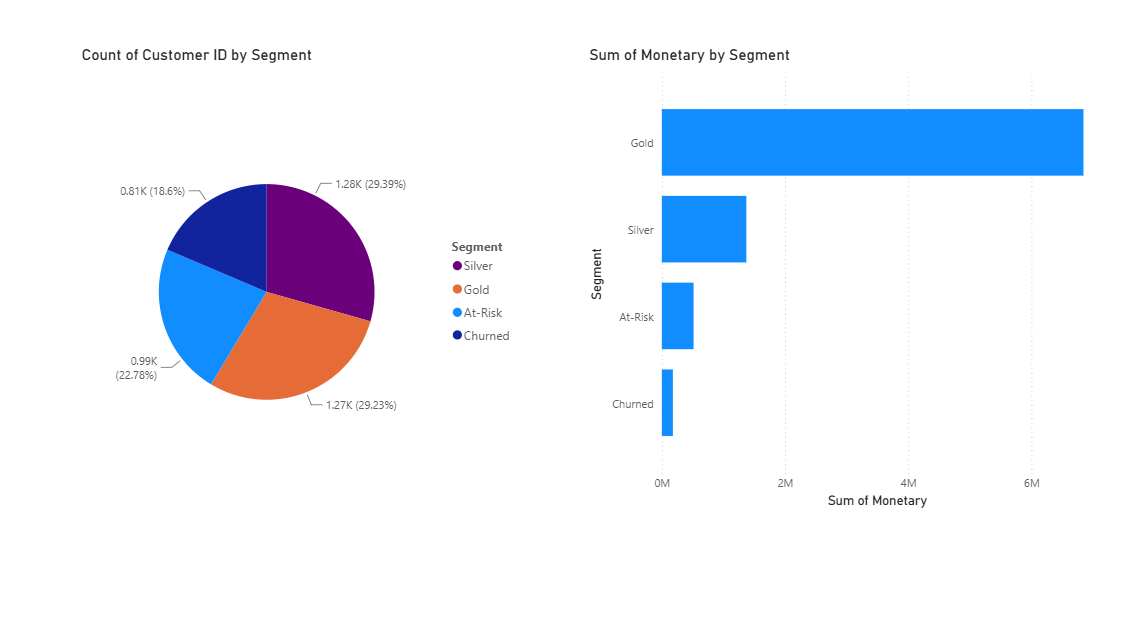

This screenshot's page, from the dashboard's own definition file:
{"tool":"powerbi","page":{"name":"Page 2","canvas":[1280,720],"ordinal":1},"visuals":[{"type":"pieChart","fields":{"Category":["rfm_segments.Segment"],"Y":["CountNonNull(rfm_segments.Customer ID)"]},"box":[94.7,67.2,491.3,522.8],"z":0},{"type":"clusteredBarChart","fields":{"Category":["rfm_segments.Segment"],"Y":["Sum(rfm_segments.Monetary)"]},"box":[651.8,67.2,572.2,513.2],"z":1000}]}

Visuals, with their boxes in screenshot pixels (x1, y1, x2, y2), scaled from the page's 1280x720 canvas onto the 1147x627 screenshot:
pieChart - rfm_segments.Segment x CountNonNull(rfm_segments.Customer ID): rect(85, 59, 525, 514)
clusteredBarChart - rfm_segments.Segment x Sum(rfm_segments.Monetary): rect(584, 59, 1097, 505)
